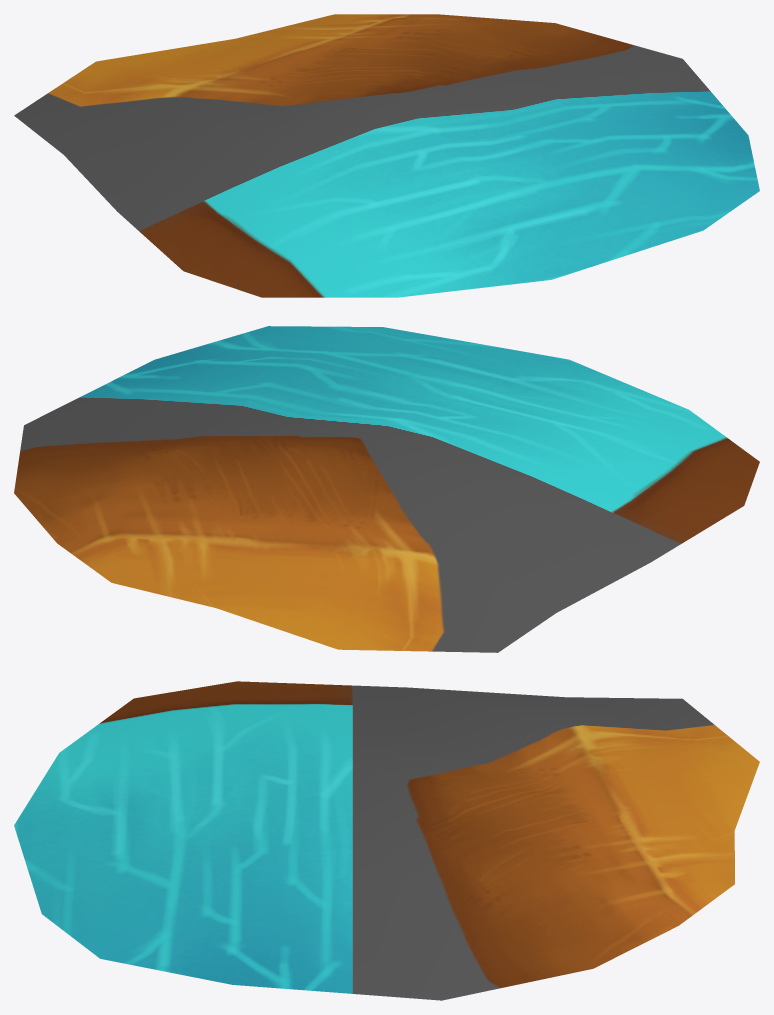
Rendered from RELIC_environment_potbase_mesh.fbx.
3 views of the same model, one above another, from view 1: azimuth 30°, elevation 25°; view 2: azimuth 150°, elevation 25°; view 3: azimuth 270°, elevation 25° (orthographic). The views are drawn at different scales.
Parts seen in each view (by area): view 1: polySurface7; view 2: polySurface7; view 3: polySurface7.
Part boxes in pixels (x1=…): polySurface7: x1=14, y1=14, x2=759, y2=297; polySurface7: x1=14, y1=326, x2=759, y2=652; polySurface7: x1=14, y1=681, x2=759, y2=1000.
Bounding box in the file's own units: 8.11 × 0.6662 × 8.
